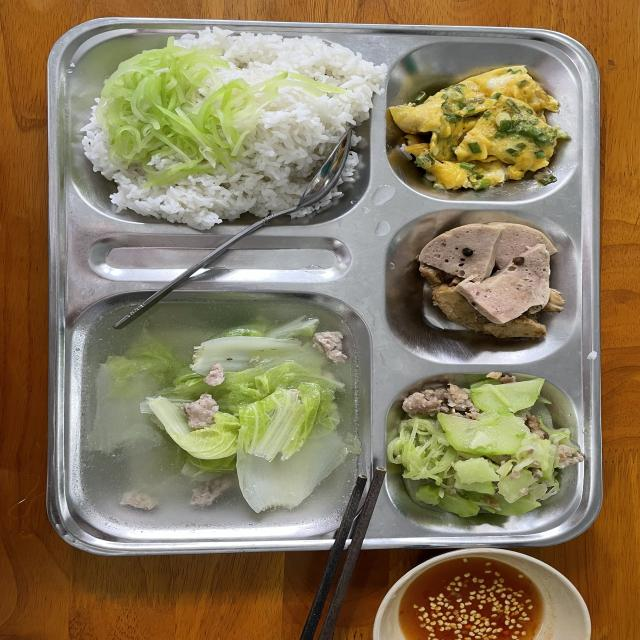canh cai: (80, 301, 359, 532)
com: (82, 29, 387, 231)
rau: (96, 37, 349, 187), (388, 373, 583, 517)
trung chien: (389, 66, 570, 190)
